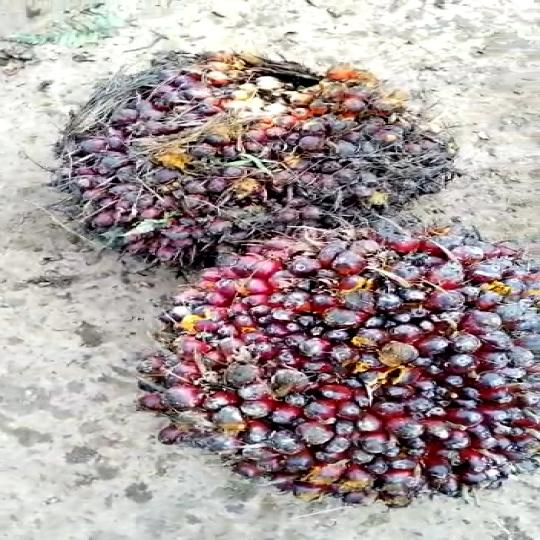kurang masak: (129, 232, 540, 492), (62, 46, 484, 248)
